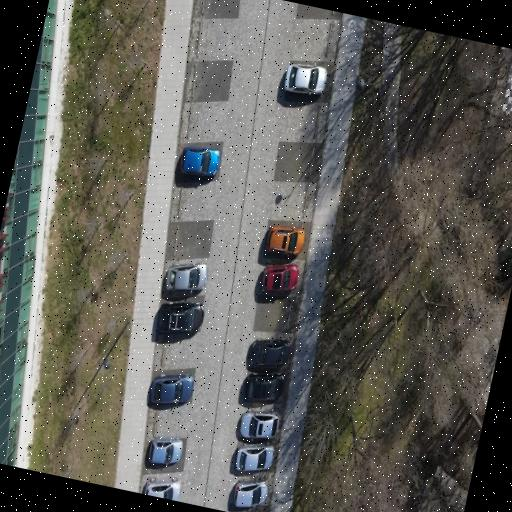car: (156, 301, 203, 335), (150, 373, 193, 403), (284, 63, 326, 93), (249, 339, 290, 367), (266, 225, 304, 254), (240, 409, 278, 438), (180, 146, 219, 174), (166, 263, 207, 289), (244, 373, 283, 400), (235, 443, 273, 470), (262, 264, 298, 291), (233, 479, 267, 507), (148, 436, 182, 463), (144, 477, 180, 500)
